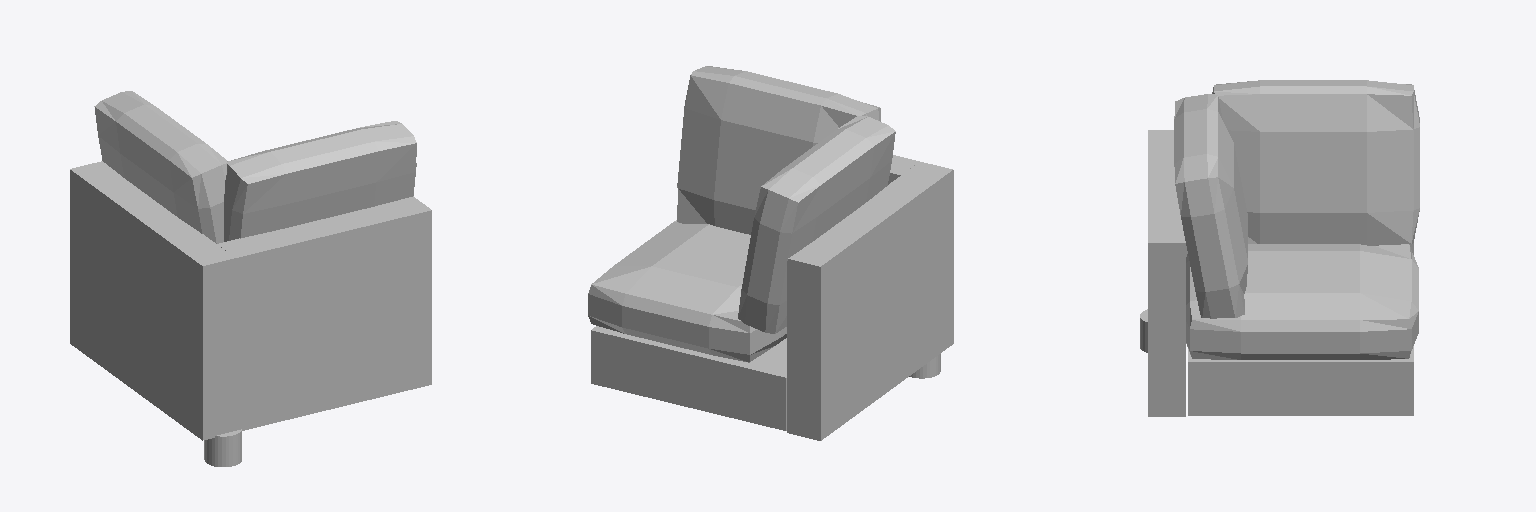
File: simple_single_sofa_4.obj
3 views of the same model, side by side, from view 1: azimuth 30°, elevation 25°; view 2: azimuth 150°, elevation 25°; view 3: azimuth 270°, elevation 25° (orthographic).
Visible parts, largest first — view 1: Cube.001_Cube.006, Cube.004, Cube.003_Cube.007, Cube.005, Cylinder.003; view 2: Cube.004, Cube.003_Cube.007, Cube.002, Cube.005, Cube; view 3: Cube.005, Cube.002, Cube.003_Cube.007, Cube, Cube.001_Cube.006.
Boxes of the visible parts, <box> form: Cube.001_Cube.006: <box>217,196,431,430</box>; Cube.004: <box>70,161,235,440</box>; Cube.003_Cube.007: <box>224,121,416,241</box>; Cube.005: <box>94,91,226,243</box>; Cylinder.003: <box>204,429,241,466</box>; Cube.004: <box>787,162,953,440</box>; Cube.003_Cube.007: <box>677,66,880,234</box>; Cube.002: <box>588,220,786,362</box>; Cube.005: <box>738,116,895,333</box>; Cube: <box>591,326,786,430</box>; Cube.005: <box>1212,80,1419,245</box>; Cube.002: <box>1186,244,1418,359</box>; Cube.003_Cube.007: <box>1174,94,1247,318</box>; Cube: <box>1188,346,1413,415</box>; Cube.001_Cube.006: <box>1148,147,1185,416</box>.
Bounding box in the file's own units: 2.44 × 2.66 × 2.48.